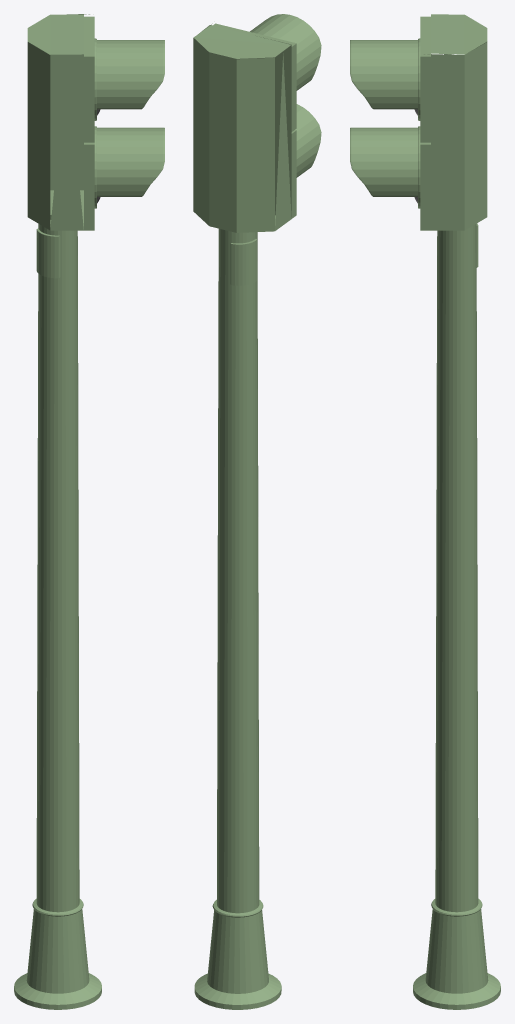
Rendered from w_highway_traffic_signals_cycle.glb.
The picture shows the model from 3 angles, left to right: view 1: azimuth 90°, elevation 25°; view 2: azimuth 150°, elevation 25°; view 3: azimuth 270°, elevation 25°; orthographic projection.
Parts seen in each view (by area): view 1: semaforo (SU 2017); view 2: semaforo (SU 2017); view 3: semaforo (SU 2017).
Boxes of the visible parts, bbox=[...] form: semaforo (SU 2017): bbox=[14, 14, 164, 1009]; semaforo (SU 2017): bbox=[193, 14, 321, 1009]; semaforo (SU 2017): bbox=[350, 14, 500, 1009].
Size of the model in its own units: 0.2389 by 2.66 by 0.3793.
Materials: 3 (2 with a texture image).
